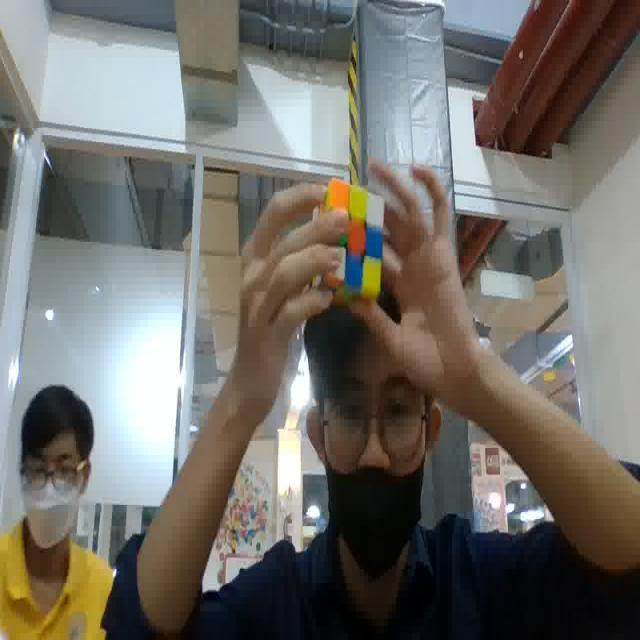Rub: (304, 176, 384, 304)
